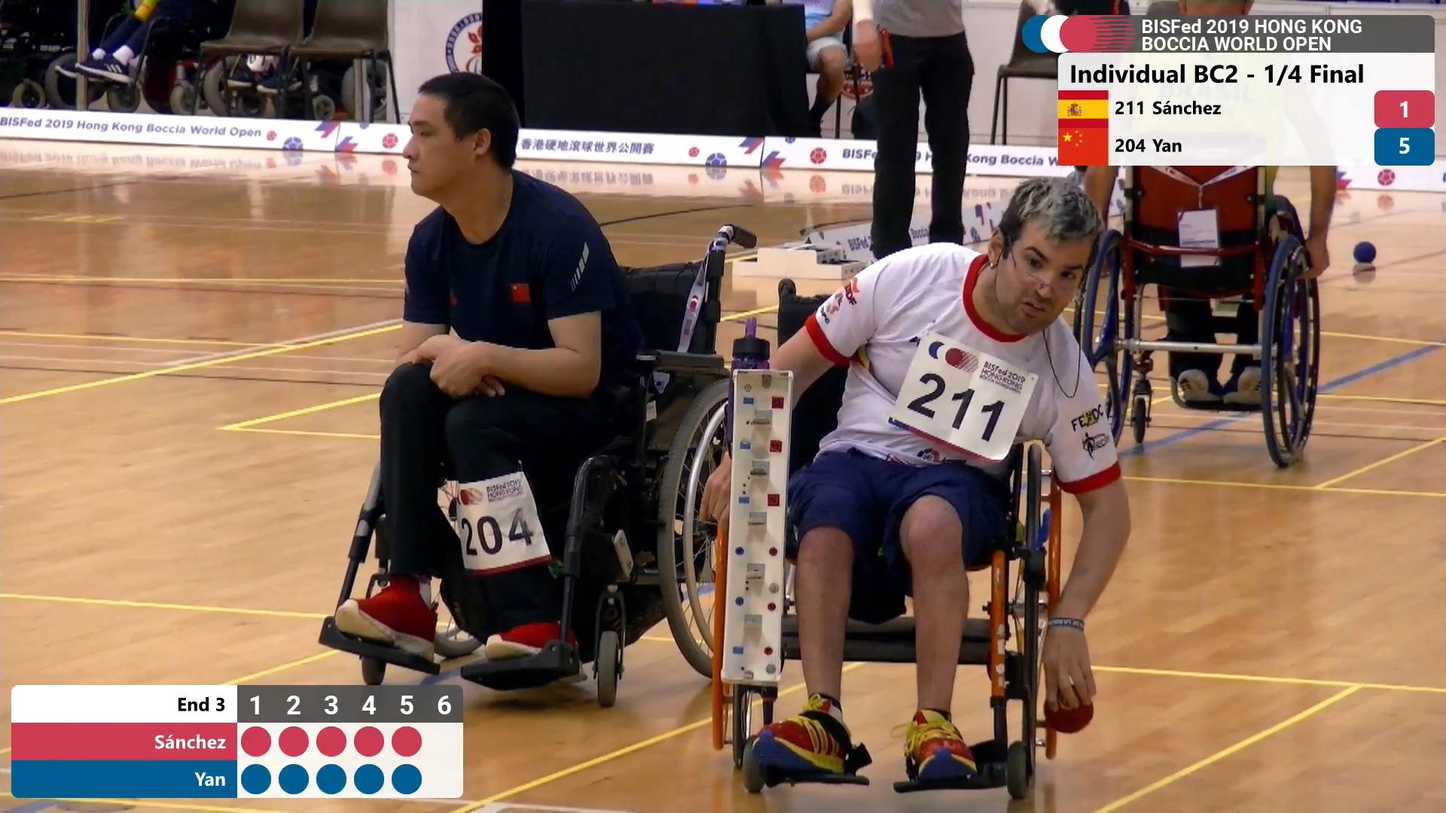blue_ball: (1348, 239, 1382, 267)
red_ball: (1042, 682, 1098, 740)
